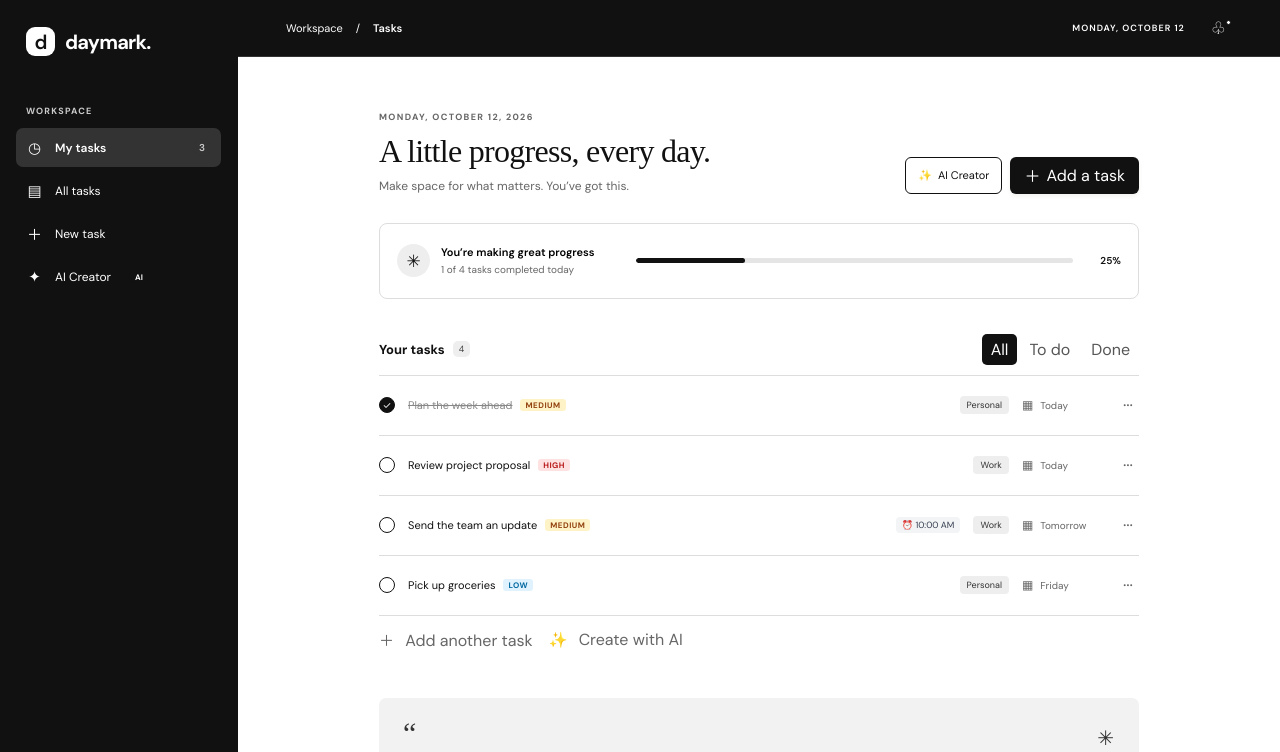
Scenario: task app › creates a task and returns to the task list
Click the link "＋ New task" at [66, 234], box left=27, top=224, right=106, bottom=244
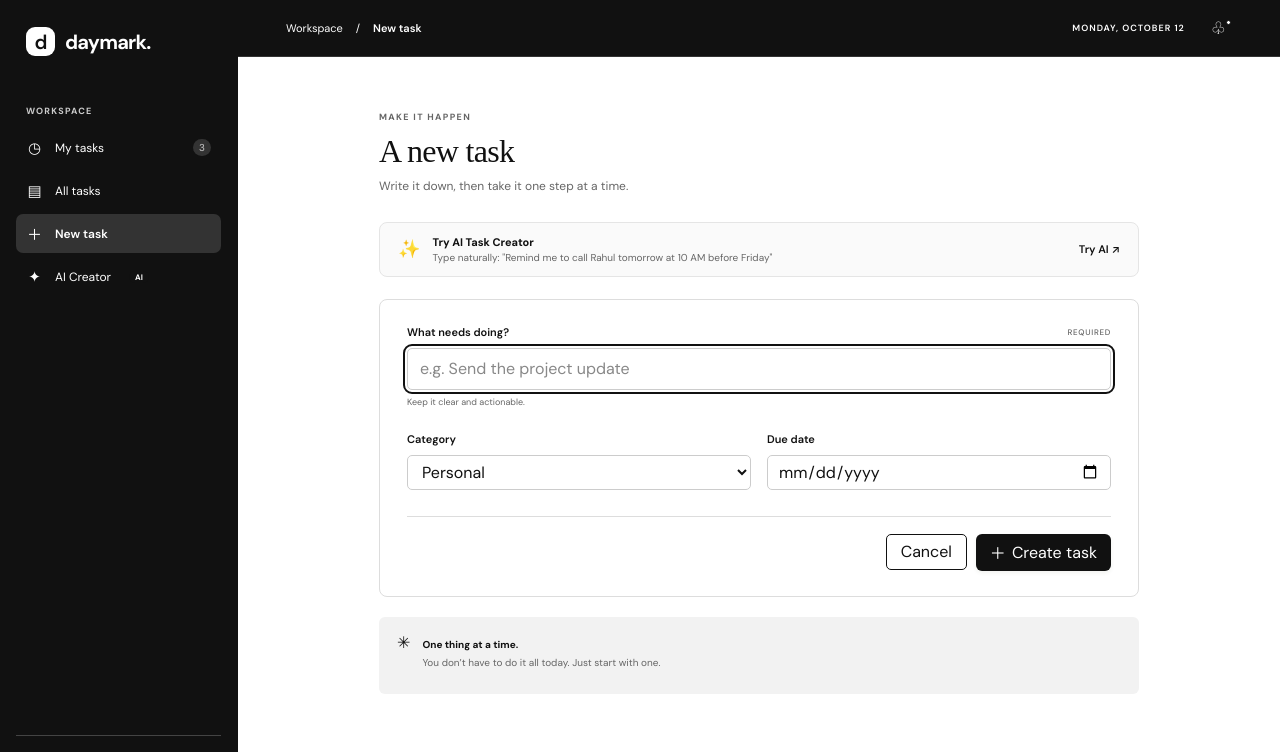
Type "Prepare test report" into the field labelled "What needs doing? REQUIRED" at [759, 369], box left=407, top=348, right=1111, bottom=390
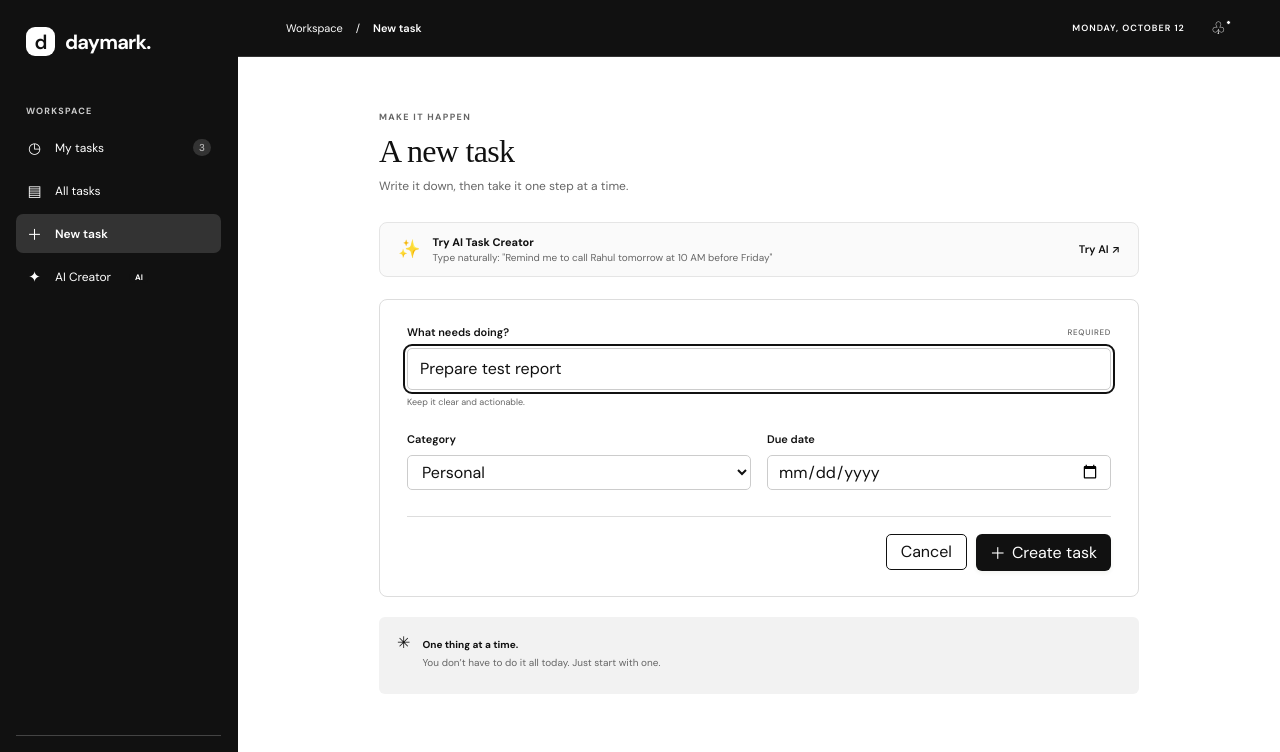
Select "Work" in the dropdown labelled "Category" at [579, 472], box left=407, top=455, right=751, bottom=490
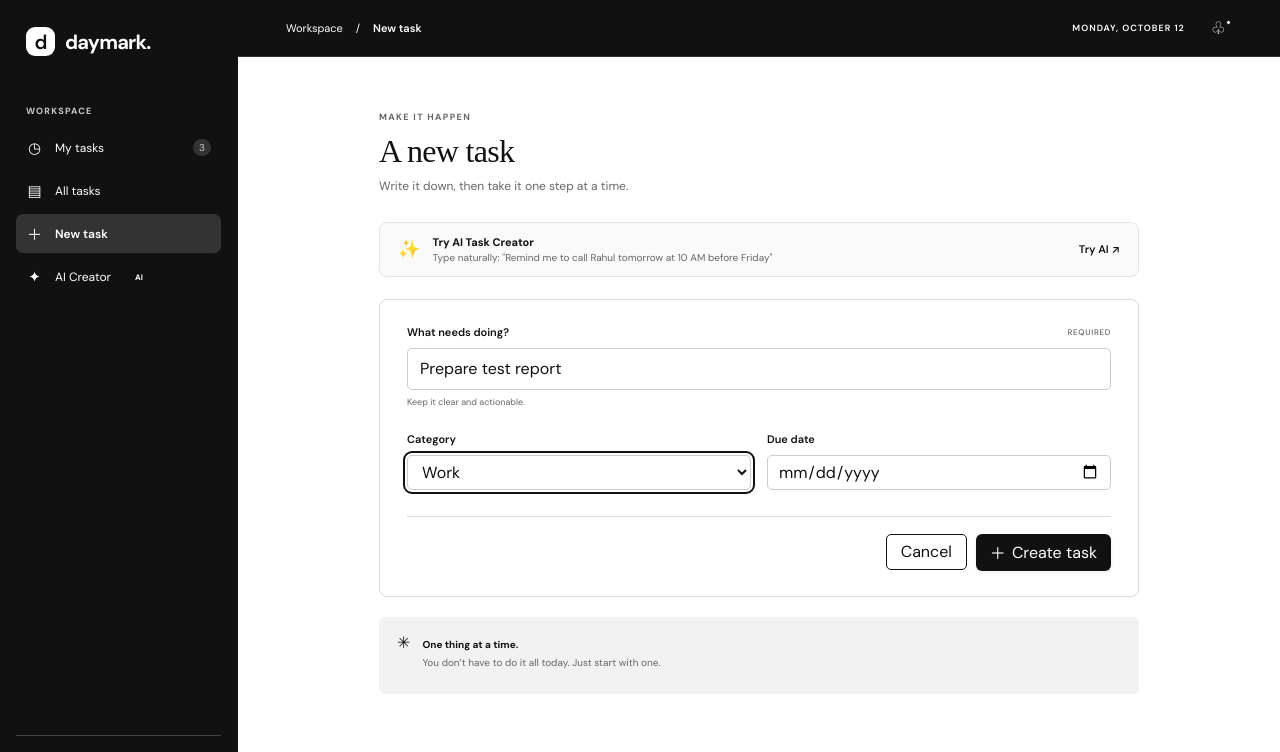
Click the button "＋ Create task" at [1043, 552], box left=976, top=534, right=1111, bottom=571
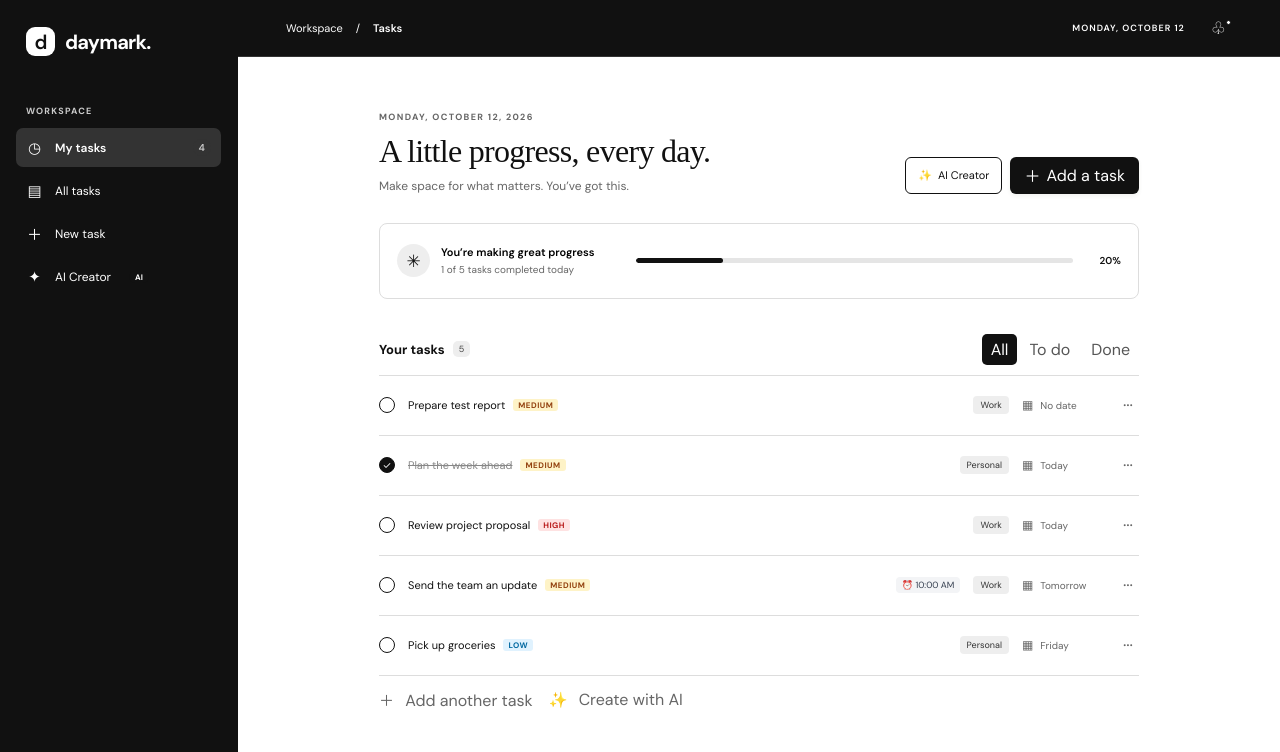
Now the text "Prepare test report" is shown, box left=408, top=398, right=505, bottom=412
